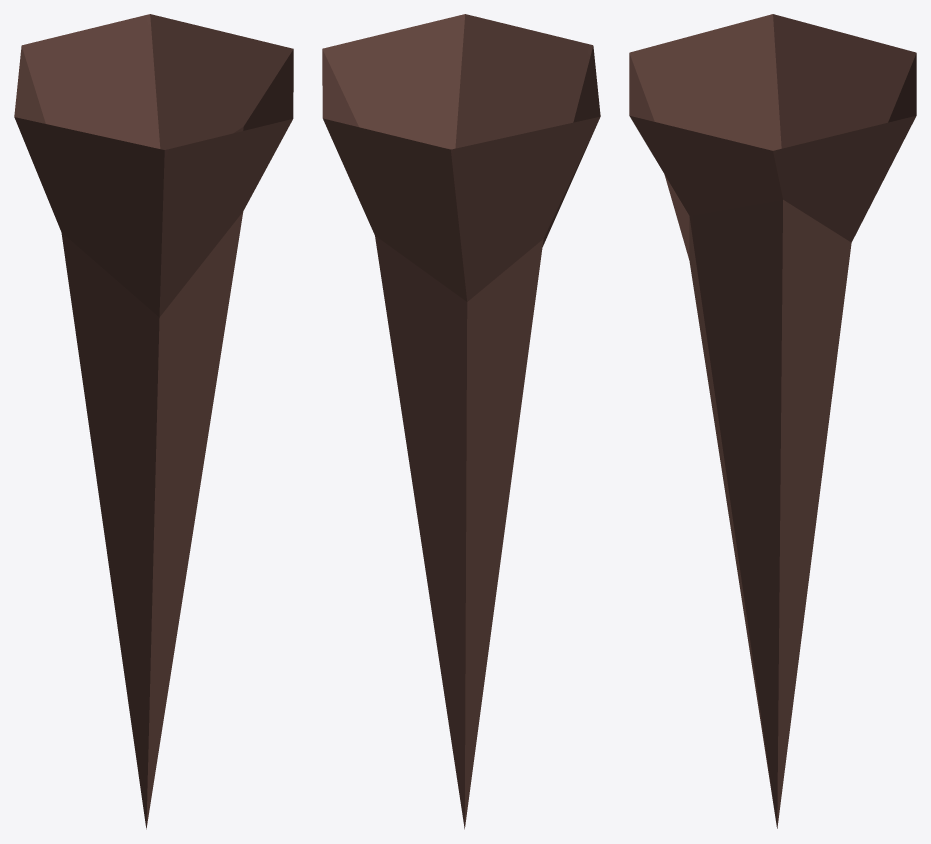
File: Stalacmite-B06.fbx
3 renders of one model, left to right at view 1: azimuth 30°, elevation 25°; view 2: azimuth 150°, elevation 25°; view 3: azimuth 270°, elevation 25°, orthographic.
Visible parts, largest first — view 1: Stalacmite-B06; view 2: Stalacmite-B06; view 3: Stalacmite-B06.
Boxes of the visible parts, x1,y1,x2,y2 form: Stalacmite-B06: [14, 14, 293, 829]; Stalacmite-B06: [322, 14, 600, 829]; Stalacmite-B06: [629, 14, 916, 828].
Bounding box in the file's own units: 64.15 × 164 × 56.91.
